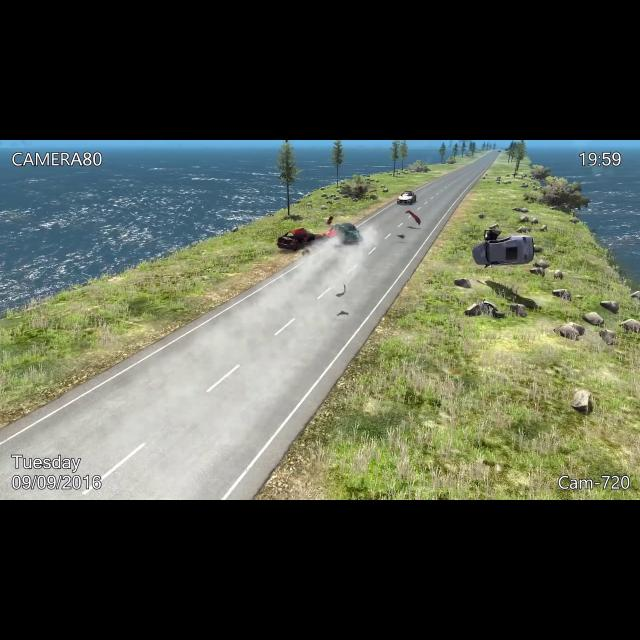accident: (279, 215, 367, 254)
